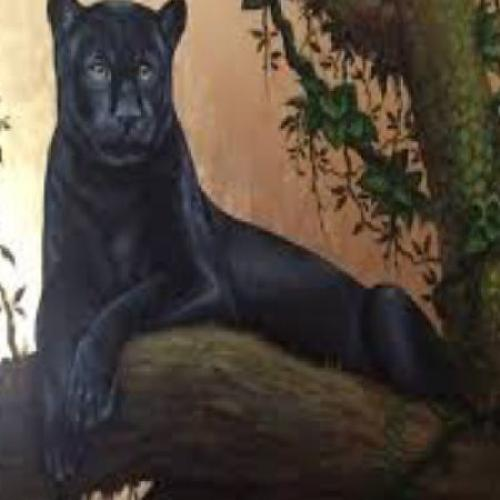panther-endangered: (41, 0, 444, 423)
